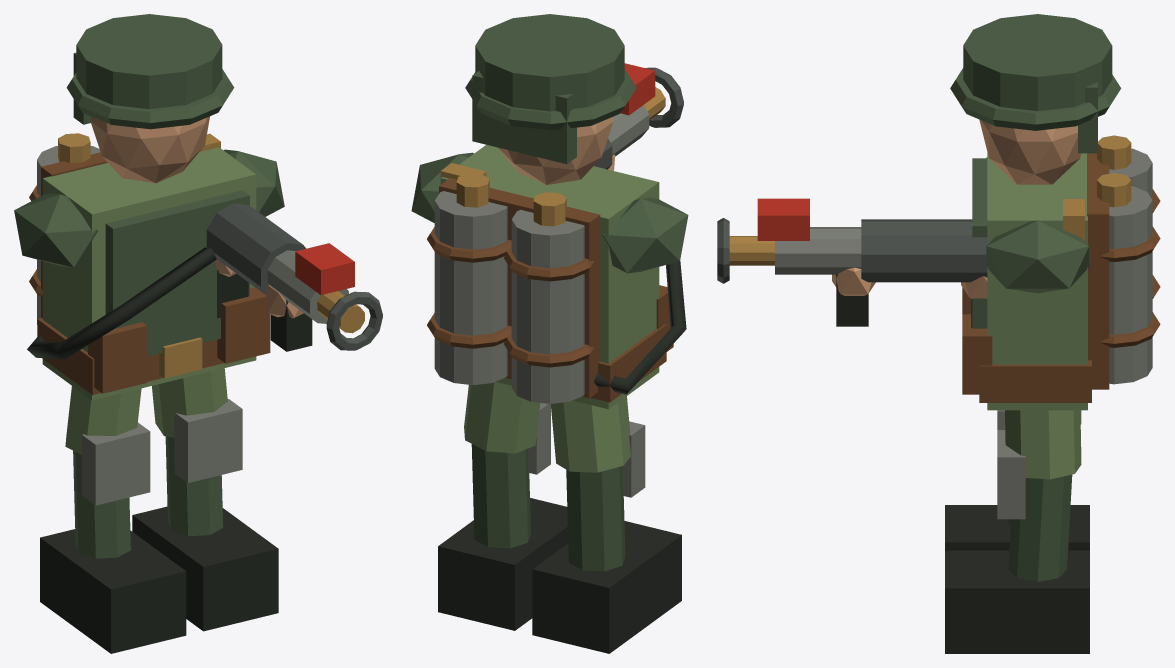
Rendered from soldier_flamethrower.glb.
3 views of the same model, side by side, from view 1: azimuth 30°, elevation 25°; view 2: azimuth 150°, elevation 25°; view 3: azimuth 270°, elevation 25° (orthographic). The views are drawn at different scales.
Visible parts, largest first — view 1: Torso, Boot_L, ChestArmor, Helmet, Boot_R, Head, FlamethrowerBody, KneePad_L, KneePad_R, ShoulderPad_L, FuelHose, Helmet_Rim (+19 smaller); view 2: Boot_L, Helmet, FuelTank_L, FuelTank_R, Torso, Boot_R, LowerLeg_L, LowerLeg_R, UpperLeg_L, ShoulderPad_L, TankHarness, UpperLeg_R (+19 smaller); view 3: Torso, Boot_R, Helmet, FlamethrowerBody, FuelTank_R, ShoulderPad_R, LowerLeg_R, UpperLeg_R, Head, TankHarness, Belt, Boot_L (+17 smaller).
Part boxes in pixels (bbox=[...]): Torso: bbox=[42, 147, 256, 400]; Boot_L: bbox=[40, 529, 186, 653]; ChestArmor: bbox=[105, 190, 249, 356]; Helmet: bbox=[76, 14, 222, 109]; Boot_R: bbox=[132, 506, 278, 631]; Head: bbox=[90, 116, 209, 183]; FlamethrowerBody: bbox=[206, 203, 305, 294]; KneePad_L: bbox=[82, 422, 150, 505]; KneePad_R: bbox=[174, 399, 242, 482]; ShoulderPad_L: bbox=[14, 193, 97, 267]; FuelHose: bbox=[27, 247, 216, 359]; Helmet_Rim: bbox=[66, 69, 234, 129]; Boot_L: bbox=[532, 521, 681, 653]; Helmet: bbox=[475, 14, 624, 111]; FuelTank_L: bbox=[511, 209, 584, 403]; FuelTank_R: bbox=[434, 191, 507, 385]; Torso: bbox=[440, 145, 659, 409]; Boot_R: bbox=[438, 498, 568, 630]; LowerLeg_L: bbox=[566, 466, 625, 571]; LowerLeg_R: bbox=[471, 444, 530, 548]; UpperLeg_L: bbox=[550, 396, 630, 472]; ShoulderPad_L: bbox=[602, 197, 688, 273]; TankHarness: bbox=[439, 178, 600, 398]; UpperLeg_R: bbox=[464, 382, 540, 453]; Torso: bbox=[987, 152, 1087, 410]; Boot_R: bbox=[945, 550, 1089, 653]; Helmet: bbox=[963, 14, 1112, 111]; FlamethrowerBody: bbox=[861, 219, 987, 282]; FuelTank_R: bbox=[1109, 186, 1152, 384]; ShoulderPad_R: bbox=[986, 220, 1088, 293]; LowerLeg_R: bbox=[1008, 474, 1072, 581]; UpperLeg_R: bbox=[1005, 410, 1081, 479]; Head: bbox=[979, 119, 1081, 184]; TankHarness: bbox=[1087, 153, 1109, 389]; Belt: bbox=[979, 360, 1091, 402]; Boot_L: bbox=[945, 505, 1089, 550].
Size of the model in its own units: 1.49 by 3.11 by 2.2.
